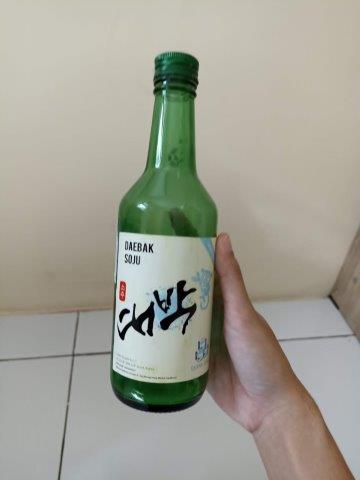botolkaca: (111, 54, 216, 415)
